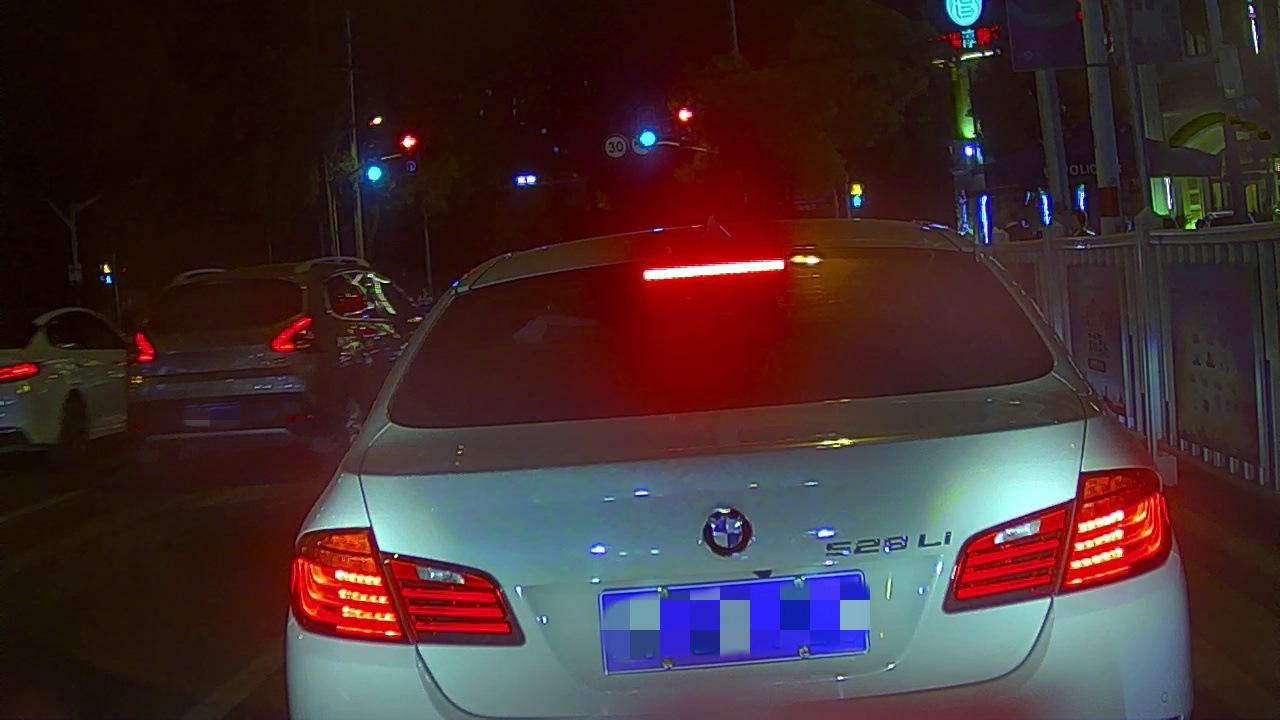traffic_light: (638, 109, 657, 149), (363, 161, 386, 185), (674, 105, 696, 125), (400, 131, 418, 152)
